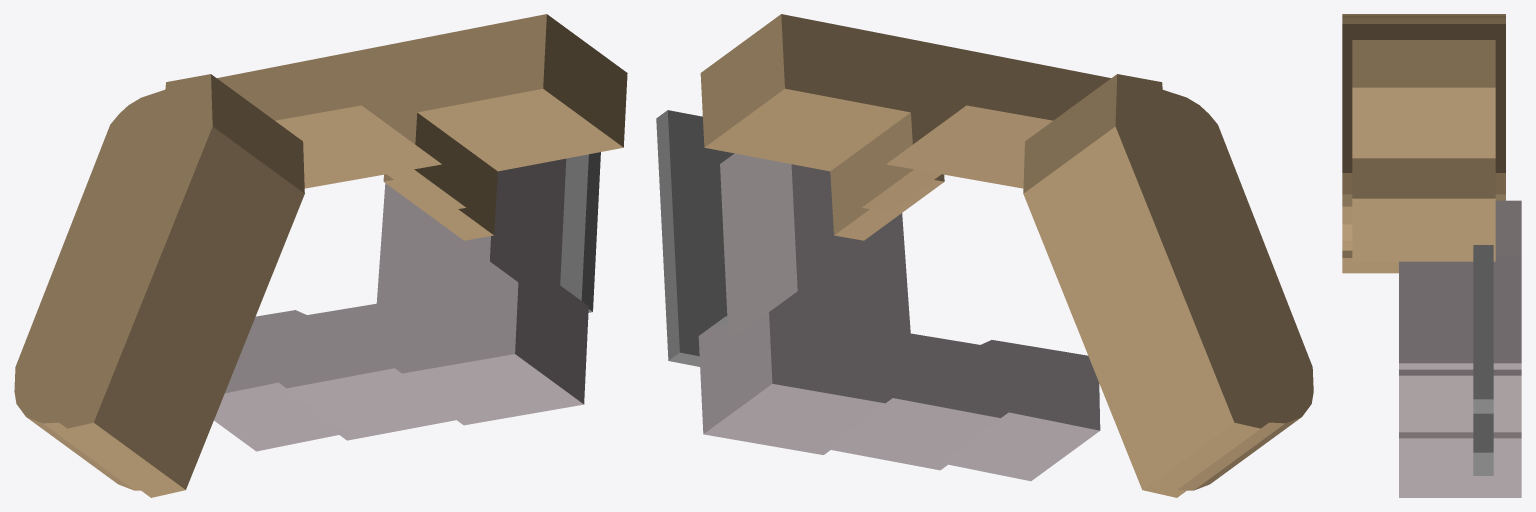
3 views of the same model, side by side, from view 1: azimuth 30°, elevation 25°; view 2: azimuth 150°, elevation 25°; view 3: azimuth 270°, elevation 25° (orthographic). The views are drawn at different scales.
Visible parts, largest first — view 1: 0_0_3_1_3_2_3_0; view 2: 0_0_3_1_3_2_3_0; view 3: 0_0_3_1_3_2_3_0.
Boxes of the visible parts, x1,y1,x2,y2 form: 0_0_3_1_3_2_3_0: [14, 14, 627, 497]; 0_0_3_1_3_2_3_0: [656, 14, 1313, 497]; 0_0_3_1_3_2_3_0: [1342, 14, 1521, 497].
Bounding box in the file's own units: 86.04 × 52.53 × 26.3.
